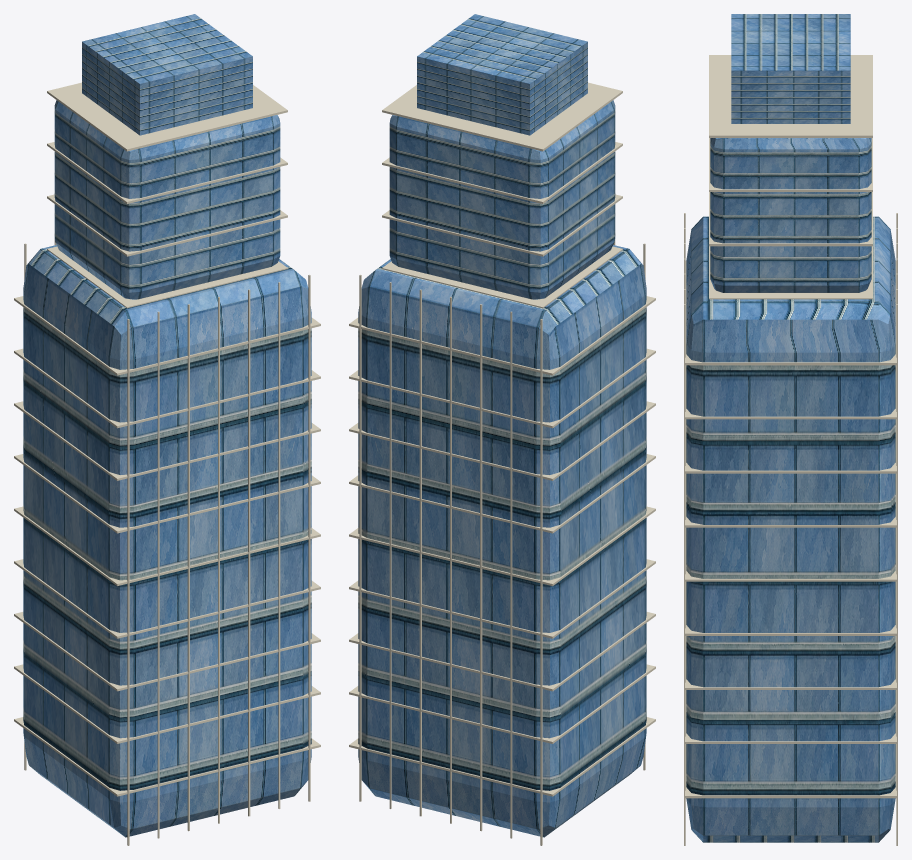
File: modern-lod0.glb
3 views of the same model, side by side, from view 1: azimuth 30°, elevation 25°; view 2: azimuth 150°, elevation 25°; view 3: azimuth 270°, elevation 25° (orthographic). The views are drawn at different scales.
Visible parts, largest first — view 1: modern_architecture; view 2: modern_architecture; view 3: modern_architecture.
Part boxes in pixels (x1=…): modern_architecture: x1=14, y1=14, x2=320, y2=845; modern_architecture: x1=349, y1=14, x2=655, y2=845; modern_architecture: x1=684, y1=14, x2=897, y2=845.
Size of the model in its own units: 8.1 by 28 by 7.16.
Materials: 2 (1 with a texture image).
